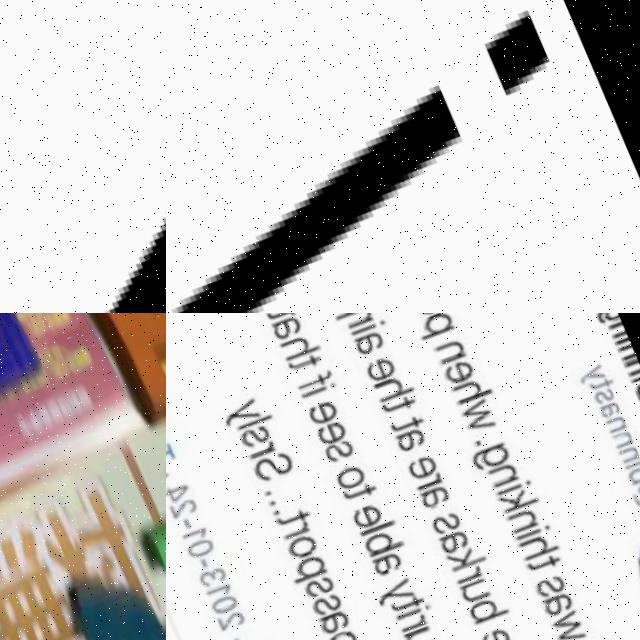0: (187, 529, 219, 559), (211, 586, 243, 613)
1: (207, 575, 236, 597), (182, 520, 211, 542)
2: (219, 602, 251, 629), (171, 490, 202, 517)
3: (200, 558, 231, 585)
4: (166, 475, 195, 502)
A: (393, 414, 432, 448), (352, 318, 389, 353), (370, 539, 408, 573), (320, 599, 356, 633), (542, 576, 579, 609), (418, 473, 454, 504), (438, 516, 473, 547), (268, 313, 305, 340), (599, 385, 625, 409)
B: (468, 580, 513, 618), (364, 516, 408, 553), (625, 447, 640, 474), (635, 367, 640, 388)
C: (413, 633, 446, 640)
E: (363, 344, 401, 379), (442, 345, 479, 378), (307, 390, 341, 423), (353, 492, 387, 524), (315, 410, 350, 441), (481, 612, 518, 640), (408, 444, 441, 474)
F: (296, 361, 335, 388)
G: (471, 429, 513, 466)
H: (451, 363, 495, 399), (373, 361, 416, 397), (520, 518, 563, 553), (280, 322, 323, 357), (491, 630, 532, 640)
I: (52, 313, 166, 434), (301, 372, 339, 396), (516, 510, 553, 534), (496, 466, 533, 490), (397, 592, 433, 615), (348, 313, 387, 332), (567, 626, 605, 640), (625, 442, 640, 458), (616, 324, 631, 336), (632, 360, 640, 371)
J: (166, 0, 640, 313)
K: (41, 526, 166, 640), (446, 529, 490, 565), (501, 472, 542, 506)
L: (239, 405, 276, 428), (362, 510, 398, 532)
N: (507, 494, 543, 525), (436, 326, 470, 358), (489, 450, 521, 480), (613, 416, 638, 439), (607, 400, 631, 423), (619, 429, 640, 451), (619, 330, 638, 351), (625, 345, 640, 366), (607, 313, 628, 328)
O: (335, 454, 369, 487), (288, 525, 322, 555)
P: (289, 545, 332, 582), (413, 313, 457, 335), (321, 619, 362, 640)
R: (415, 459, 447, 485), (455, 553, 486, 578), (282, 511, 313, 536), (401, 603, 432, 627), (248, 432, 278, 456), (346, 313, 376, 324)
S: (252, 439, 298, 480), (536, 559, 572, 591), (431, 498, 467, 529), (312, 582, 348, 613), (323, 428, 357, 458), (240, 415, 274, 445), (306, 565, 339, 595), (595, 374, 618, 394)
T: (528, 537, 567, 566), (381, 383, 420, 412), (278, 497, 316, 526), (391, 402, 428, 428), (344, 472, 381, 498), (393, 582, 428, 609), (288, 344, 324, 369), (589, 362, 616, 382), (166, 437, 178, 464), (266, 313, 305, 320)
U: (404, 612, 441, 640), (461, 566, 494, 596)
V: (0, 0, 166, 313)
W: (551, 594, 590, 637), (460, 385, 499, 426)
Y: (115, 416, 166, 620), (375, 566, 420, 604), (220, 389, 265, 427), (579, 350, 608, 375)
